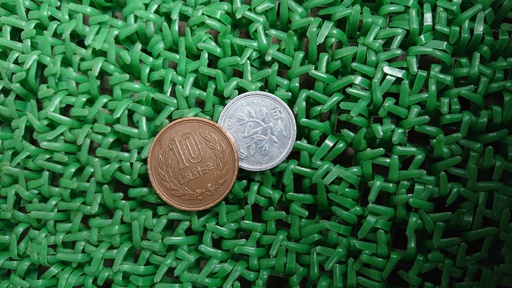10yen: (147, 117, 238, 210)
1yen: (215, 91, 296, 170)
